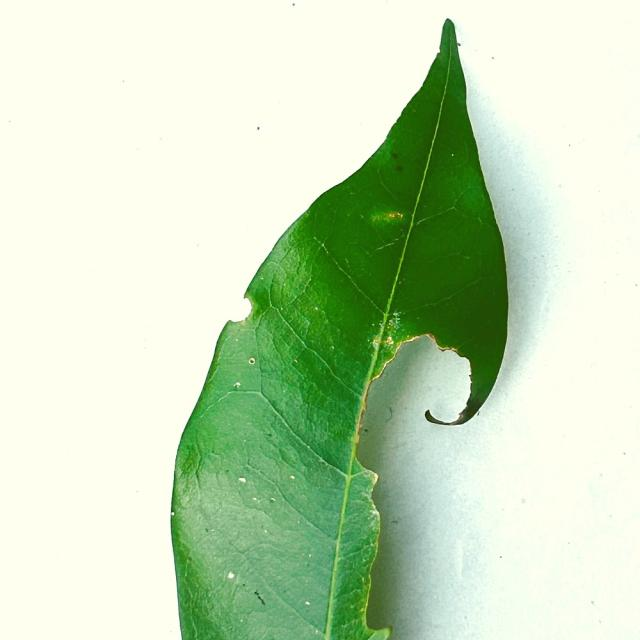Deficiency Leaf: (360, 339, 468, 632), (232, 301, 254, 322)
Lychee: (169, 21, 509, 639)
